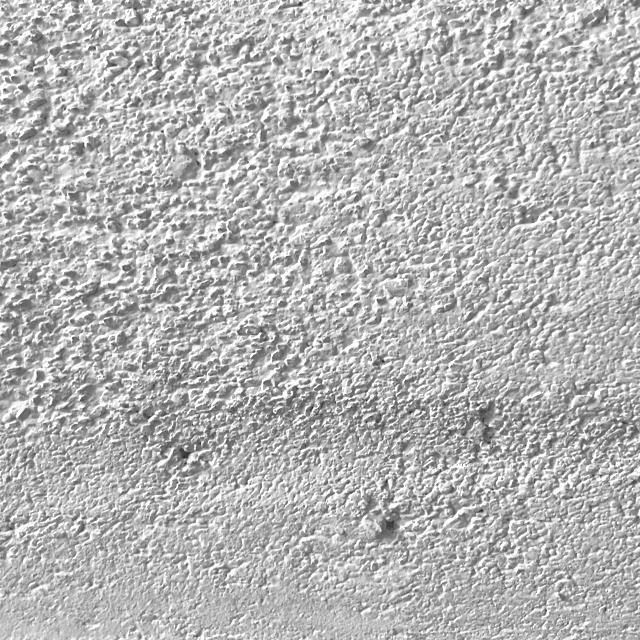rough and patchy surface: (0, 2, 638, 630)
